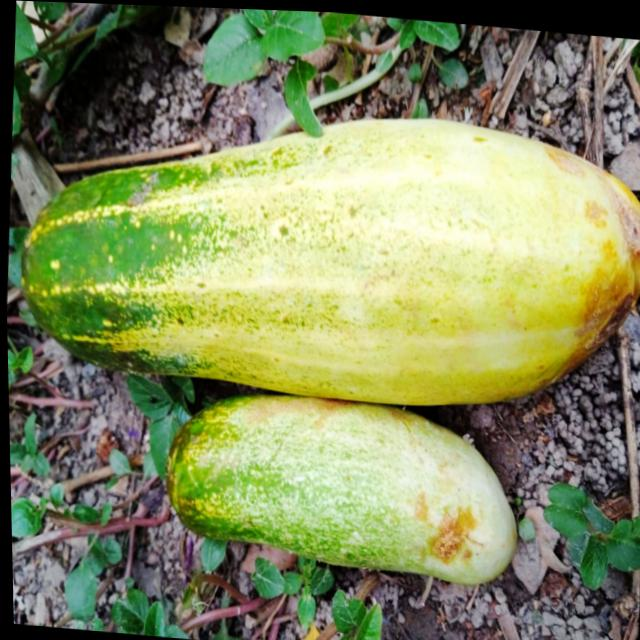Belly-Rot: (521, 133, 640, 351), (404, 478, 486, 567)
